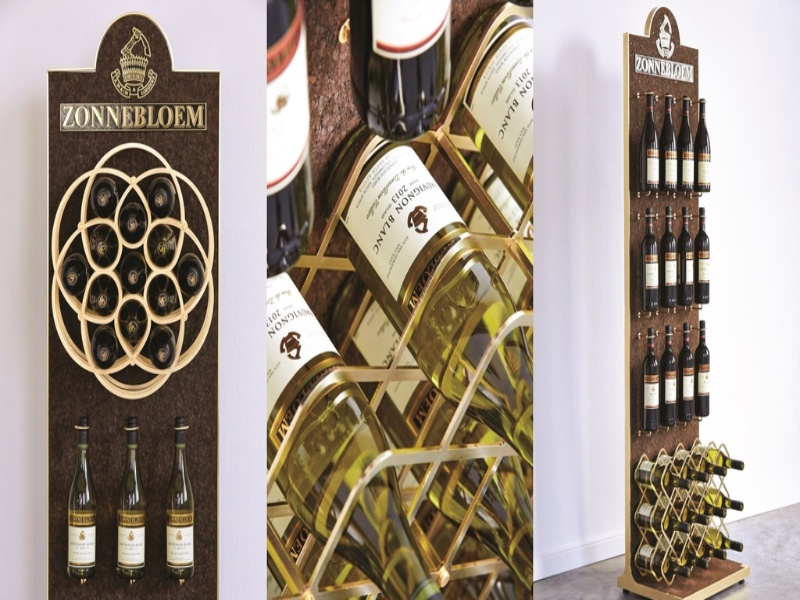wine: (268, 1, 537, 600), (53, 138, 217, 407), (626, 85, 712, 432), (59, 411, 212, 593), (637, 439, 753, 588)
